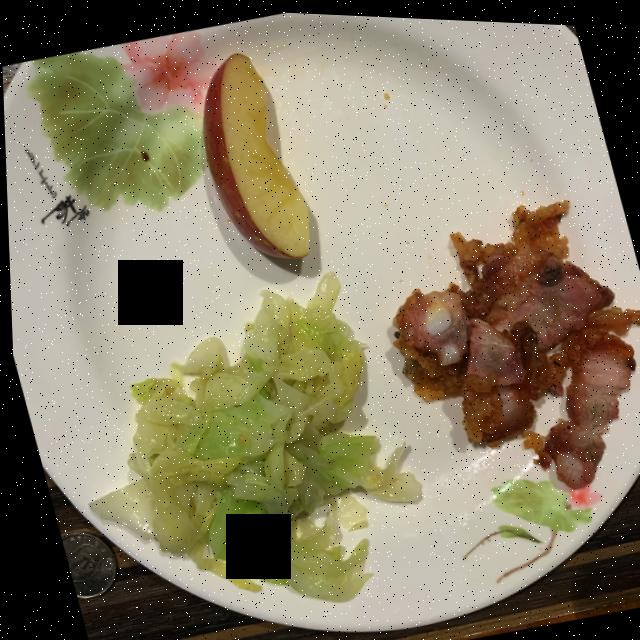apple -sliced-: (202, 51, 308, 256)
cabbage: (86, 270, 417, 598)
coin: (57, 531, 112, 597)
red grilled pork: (391, 194, 640, 483)
